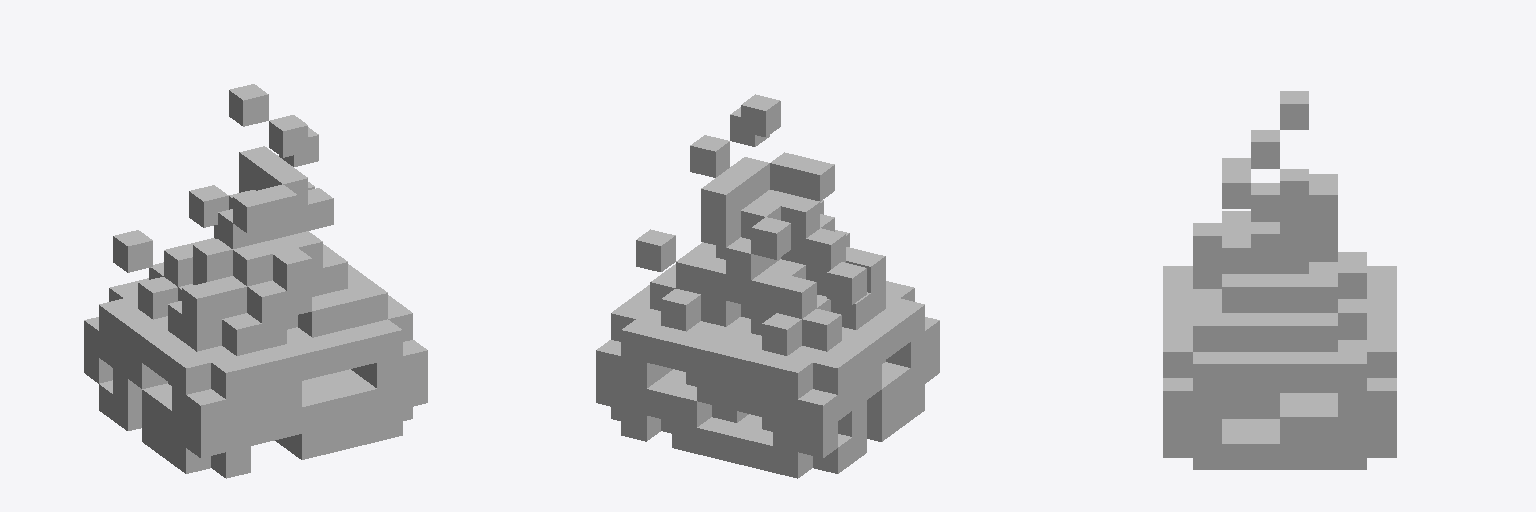
Rendered from Bonfire.obj.
3 renders of one model, left to right at view 1: azimuth 30°, elevation 25°; view 2: azimuth 150°, elevation 25°; view 3: azimuth 270°, elevation 25°, orthographic.
Parts seen in each view (by area): view 1: object 1; view 2: object 1; view 3: object 1.
Part boxes in pixels (bbox=[...]): object 1: bbox=[84, 84, 427, 478]; object 1: bbox=[596, 94, 939, 478]; object 1: bbox=[1163, 91, 1396, 469].
Bounding box in the file's own units: 0.9 × 1.2 × 0.8.